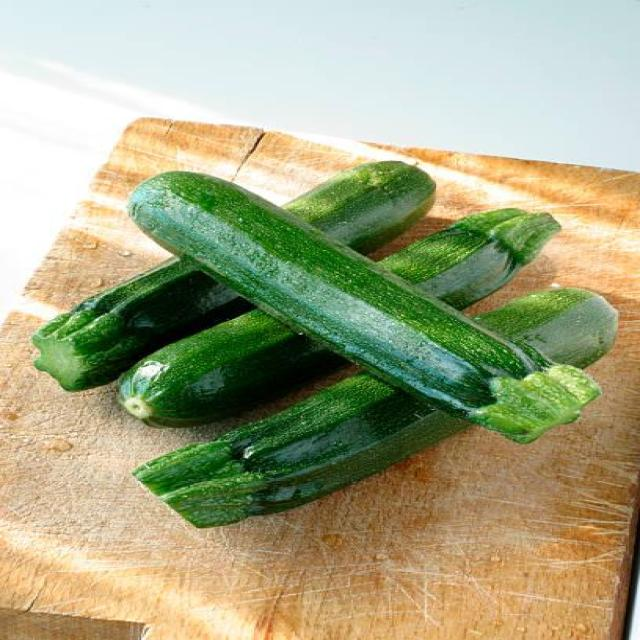Courgette: (125, 169, 593, 440), (138, 285, 619, 530), (117, 205, 559, 429), (36, 156, 435, 393)
